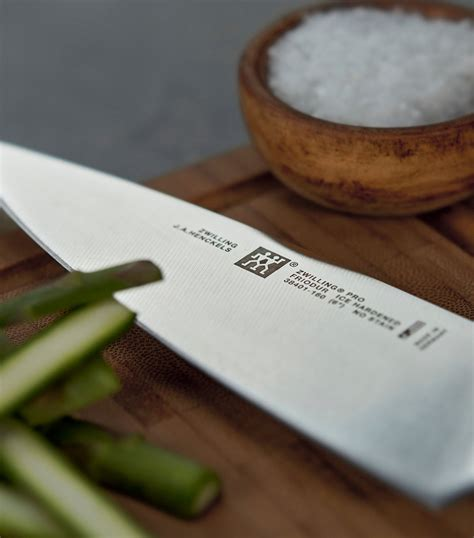knife: (1, 137, 472, 509)
